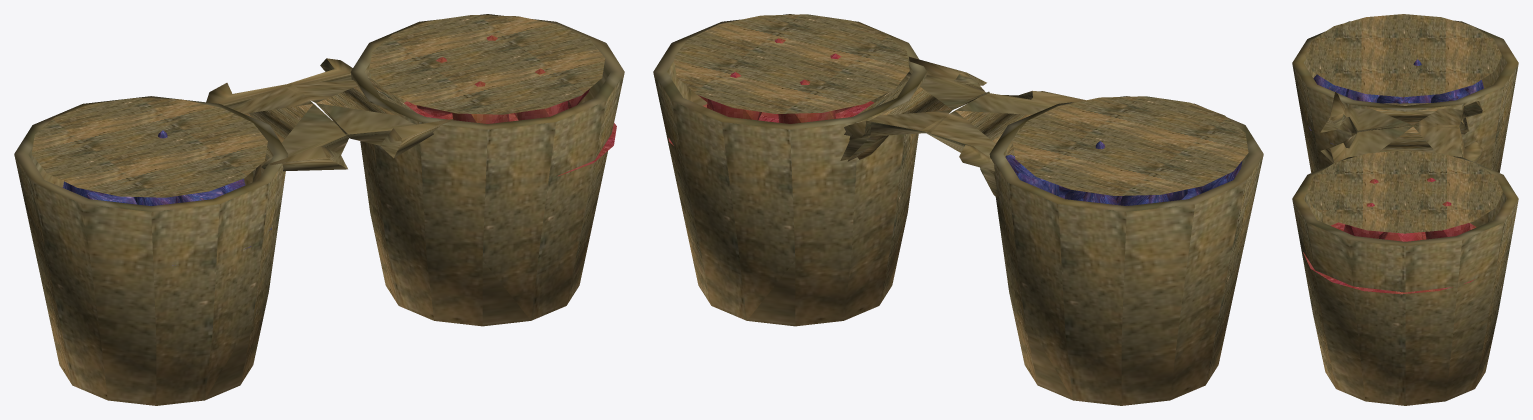
Rendered from packdonkeybuckets.glb.
3 views of the same model, side by side, from view 1: azimuth 30°, elevation 25°; view 2: azimuth 150°, elevation 25°; view 3: azimuth 270°, elevation 25° (orthographic). The views are drawn at different scales.
Visible parts, largest first — view 1: buckets, cover, apples, figs; view 2: buckets, cover, figs, apples; view 3: buckets, cover, apples, figs.
Part boxes in pixels (left/top/right/bottom): buckets: left=14, top=14, right=624, bottom=405; cover: left=31, top=15, right=605, bottom=197; apples: left=404, top=35, right=616, bottom=176; figs: left=62, top=130, right=271, bottom=265; buckets: left=653, top=14, right=1263, bottom=405; cover: left=673, top=14, right=1248, bottom=195; figs: left=1005, top=141, right=1242, bottom=205; apples: left=668, top=38, right=873, bottom=145; buckets: left=1292, top=20, right=1518, bottom=405; cover: left=1305, top=14, right=1502, bottom=233; apples: left=1303, top=178, right=1476, bottom=294; figs: left=1308, top=59, right=1483, bottom=144.
Bounding box in the file's own units: 39.57 × 14.96 × 16.37.
3 materials, 3 textured.
